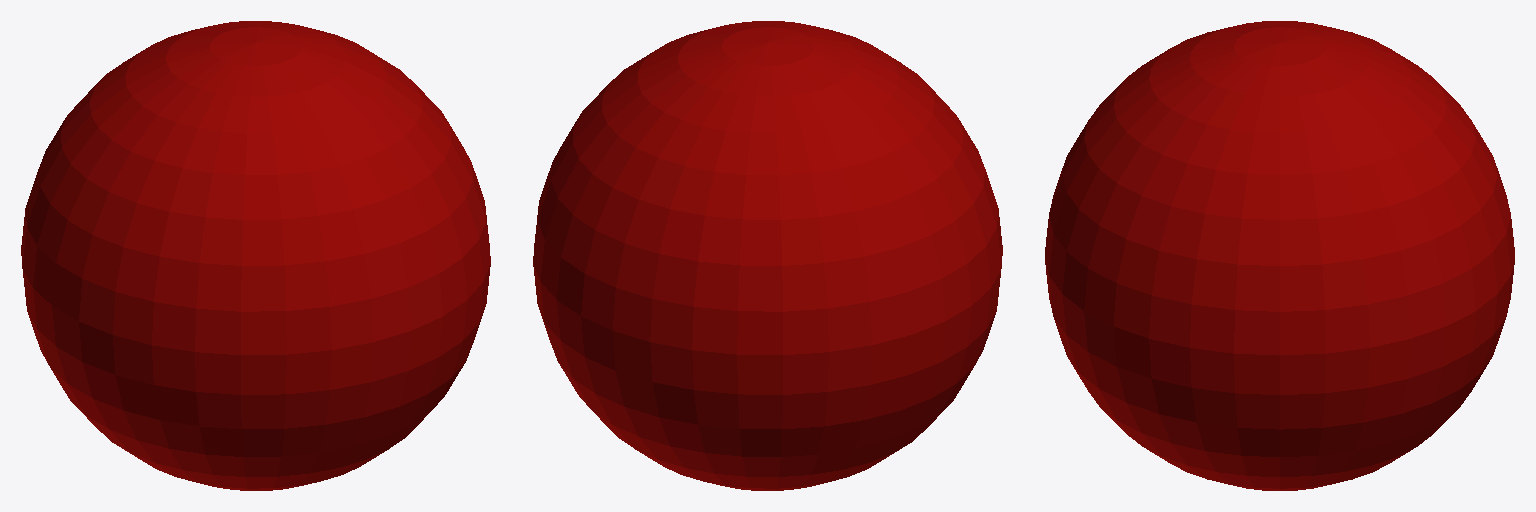
File: cornell3_sphere2_03.obj
3 renders of one model, left to right at view 1: azimuth 30°, elevation 25°; view 2: azimuth 150°, elevation 25°; view 3: azimuth 270°, elevation 25°, orthographic.
Parts seen in each view (by area): view 1: Sphere; view 2: Sphere; view 3: Sphere.
Part boxes in pixels (bbox=[...]): Sphere: bbox=[21, 21, 490, 490]; Sphere: bbox=[533, 21, 1002, 490]; Sphere: bbox=[1045, 21, 1514, 490].
Bounding box in the file's own units: 0.398 × 0.398 × 0.398.